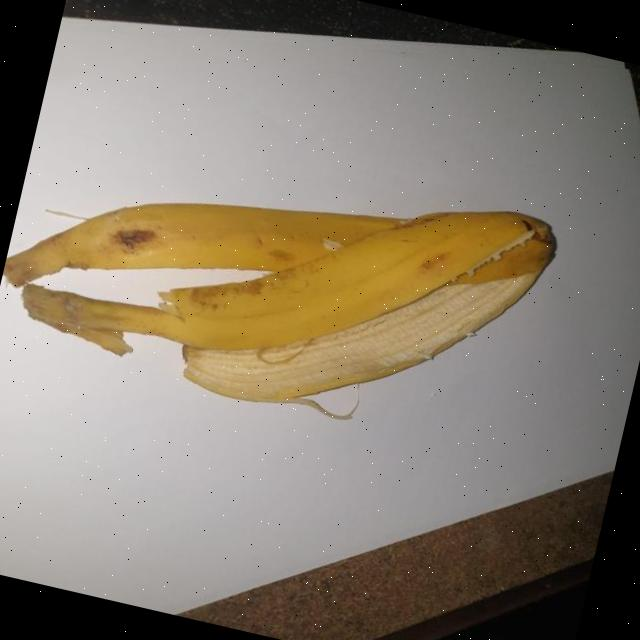banana-peel: (0, 99, 563, 462)
